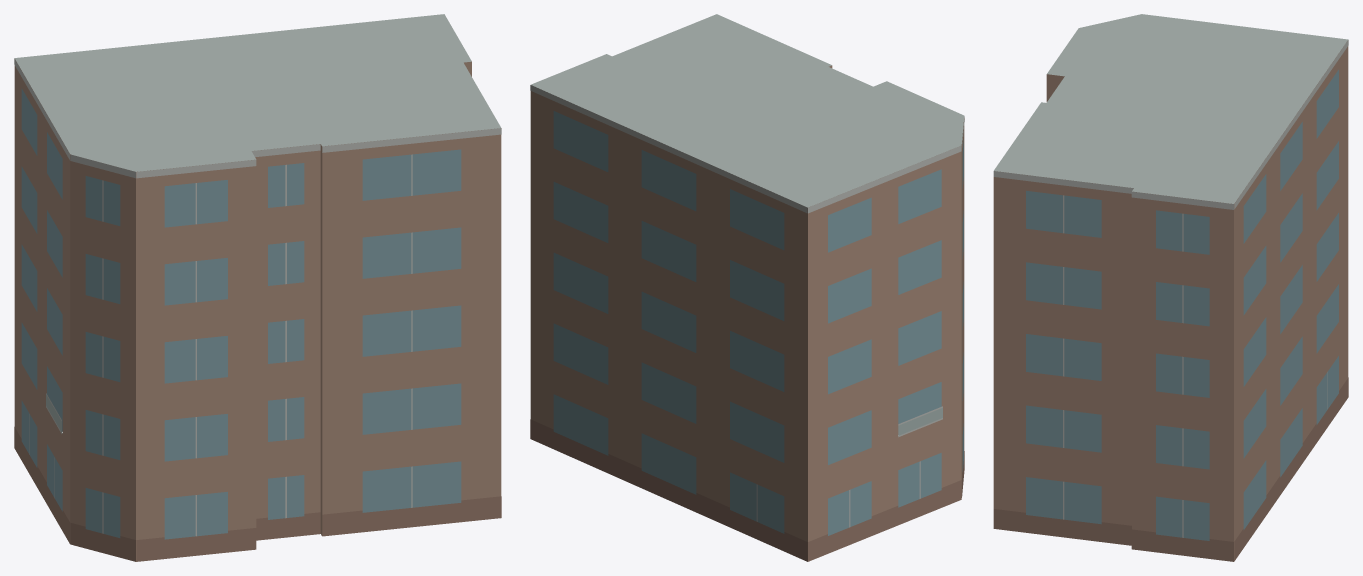
File: survey-upis-33017984.glb
3 renders of one model, left to right at view 1: azimuth 30°, elevation 25°; view 2: azimuth 150°, elevation 25°; view 3: azimuth 270°, elevation 25°, orthographic. The views are drawn at different scales.
Visible parts, largest first — view 1: survey-upis-33017984.tmp; view 2: survey-upis-33017984.tmp; view 3: survey-upis-33017984.tmp.
Boxes of the visible parts, x1,y1,x2,y2 form: survey-upis-33017984.tmp: [14, 14, 501, 561]; survey-upis-33017984.tmp: [530, 14, 964, 561]; survey-upis-33017984.tmp: [993, 14, 1348, 561].
Size of the model in its own units: 16.64 by 14.6 by 13.13.
